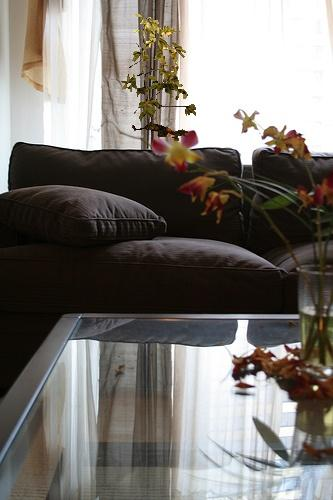tampered: (122, 15, 196, 141)
